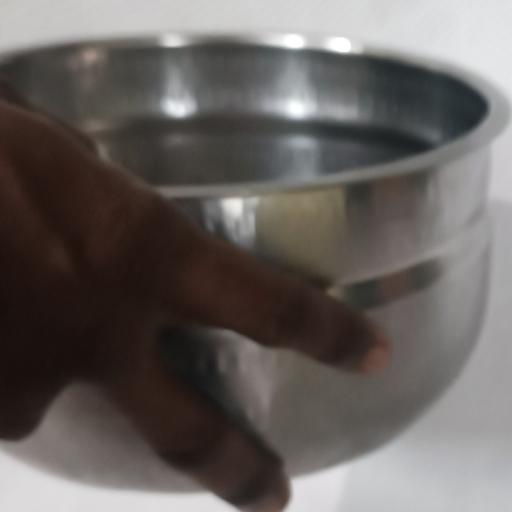vessel: (0, 34, 508, 474), (4, 388, 188, 490)
